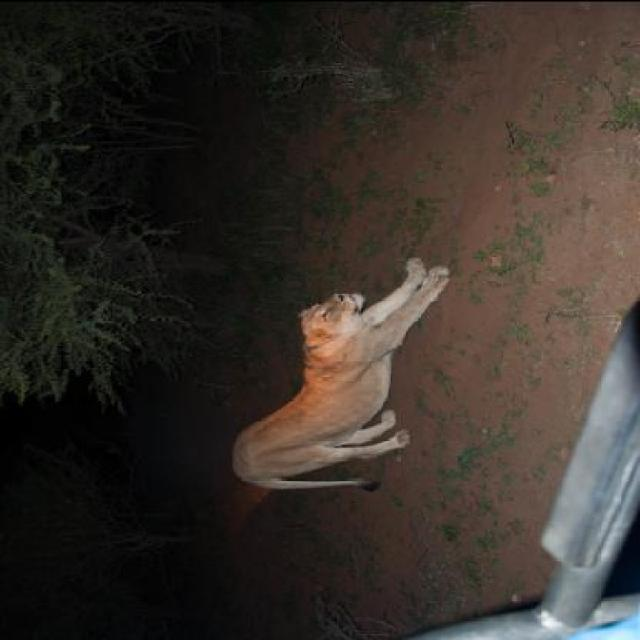Lion: (217, 248, 465, 515)
